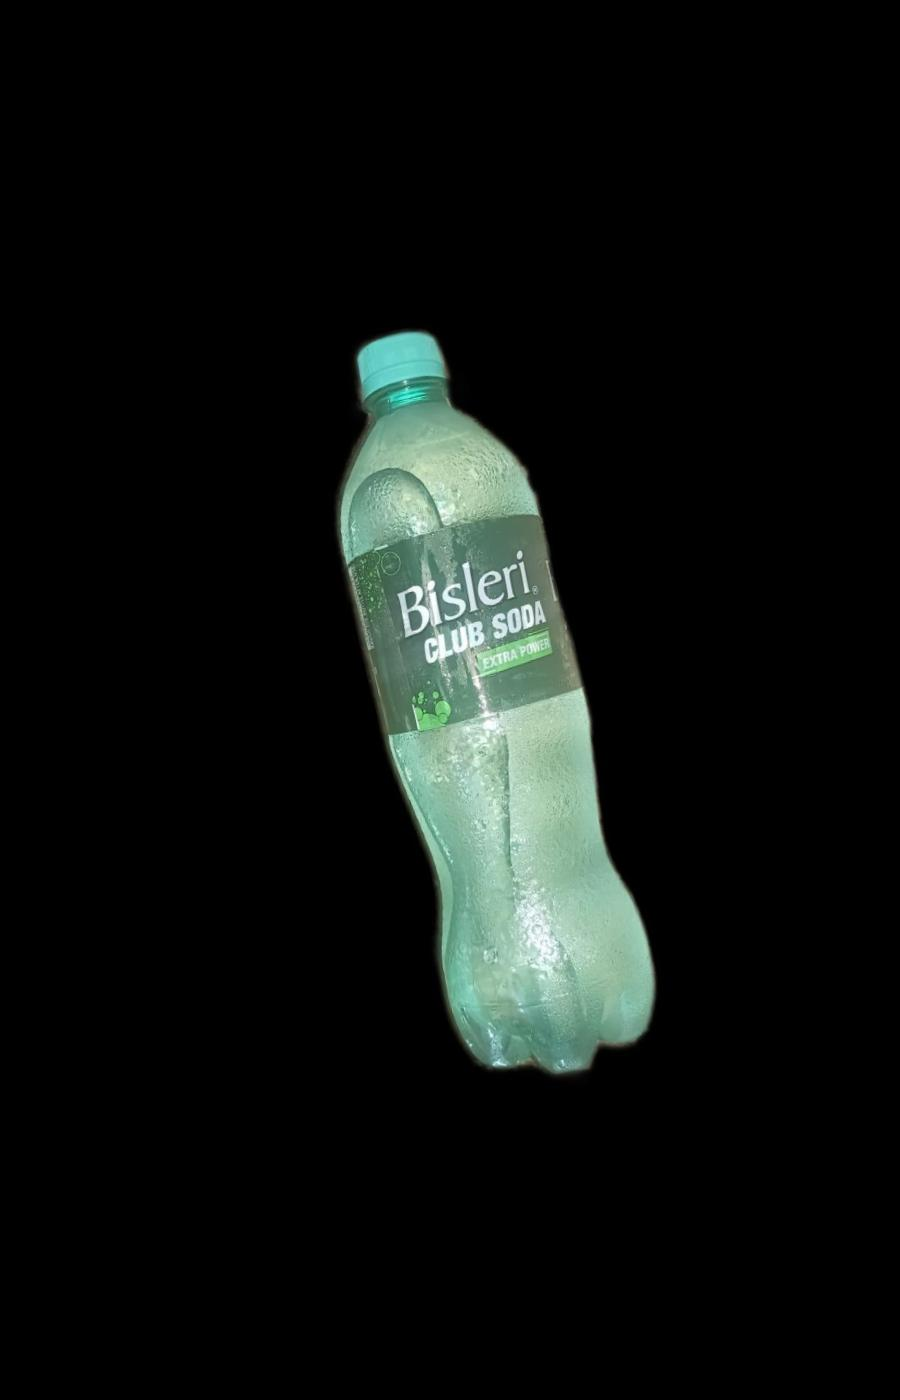Bisleri Club Soda - 750 ml: (251, 301, 703, 1112)
